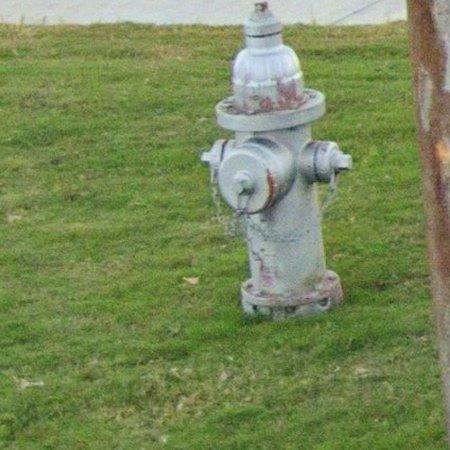a fire hydrant: (202, 2, 352, 319)
